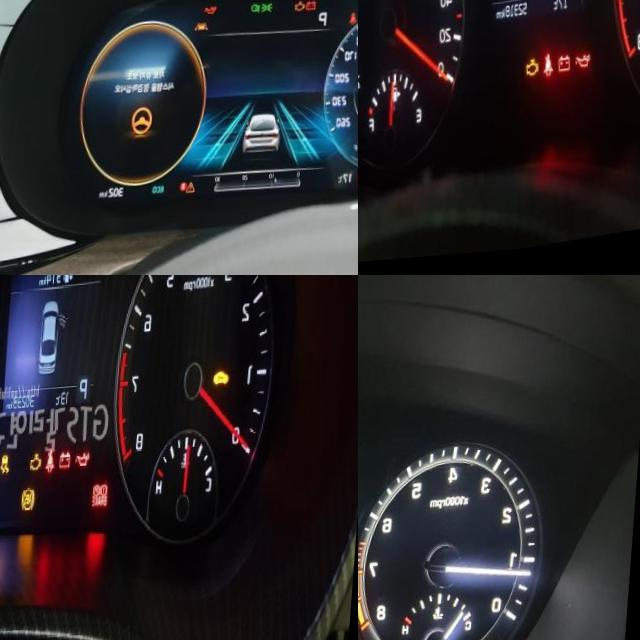Central Warning lamp: (193, 184, 203, 197)
LaneCenteringOff: (200, 24, 214, 35)
Low beam: (256, 7, 266, 17)
SideLamp: (265, 5, 278, 18)
